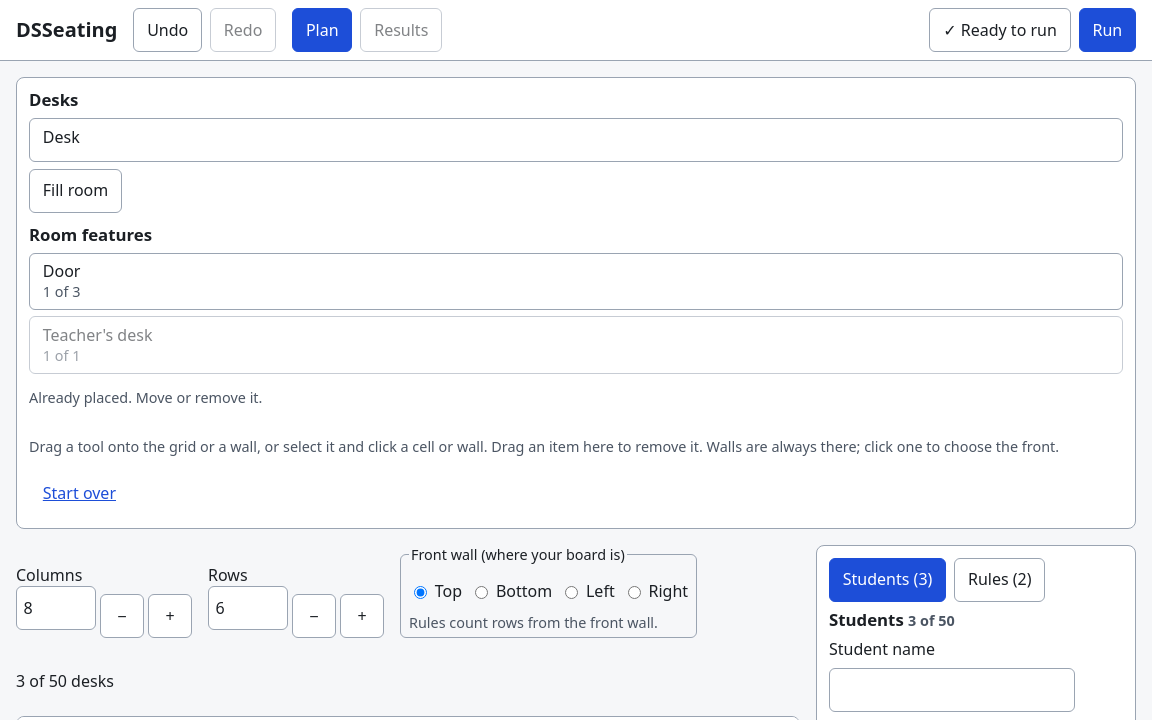
Test case: Run › shows the FR-37 banner and the reason line of a selected rule
Step 1. Click the button "Run" → (1107, 30), box [1079, 8, 1136, 52]
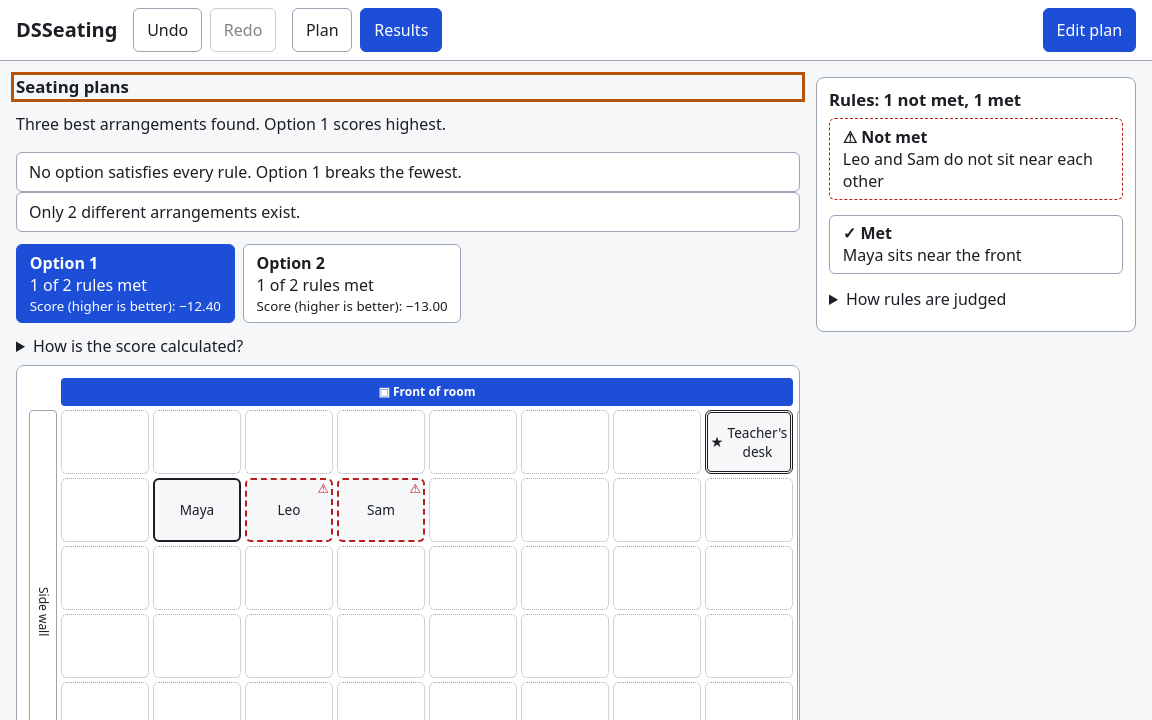
Now the heading "Seating plans" is shown, box [16, 75, 129, 98]
Now the text "No option satisfies every rule. Option 1 breaks the fewest." is shown, box [16, 152, 800, 192]
Now the text "Only 2 different arrangements exist." is shown, box [16, 192, 800, 232]
Step 2. Click the button "⚠ Not met Leo and Sam do not sit near each other" → (976, 159), box [830, 119, 1122, 199]
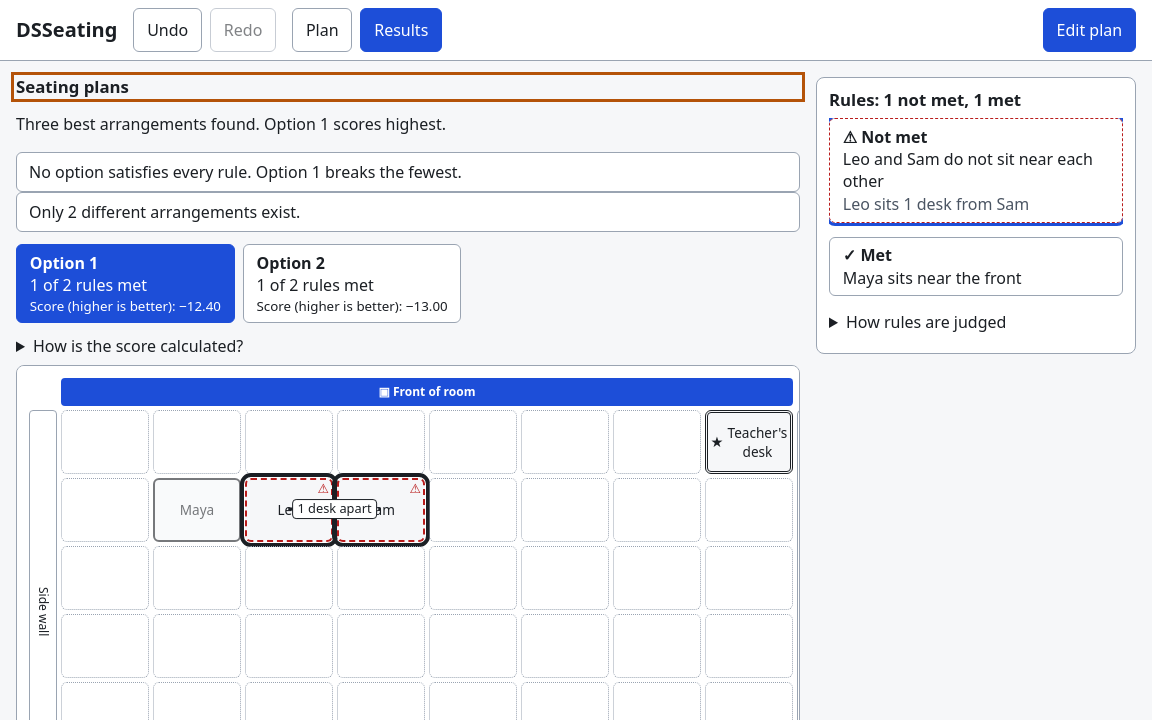
Now the text "Leo sits 1 desk from Sam" is shown, box [843, 193, 1029, 215]
Step 3. Click the tab "Option 2 1 of 2 rules met Score (higher is better): −13.00" → (352, 283), box [243, 244, 461, 322]
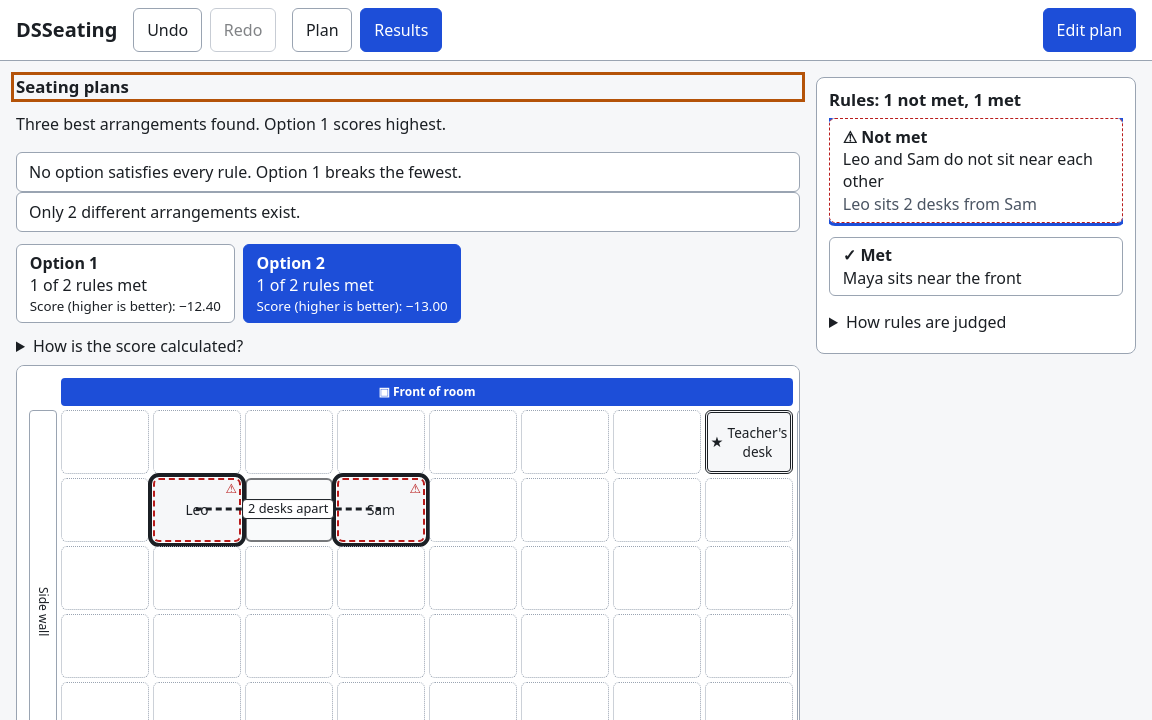
Now the text "Leo sits 2 desks from Sam" is shown, box [843, 193, 1037, 215]
Step 4. Click the button "✓ Met Maya sits near the front" → (976, 267), box [830, 238, 1122, 296]
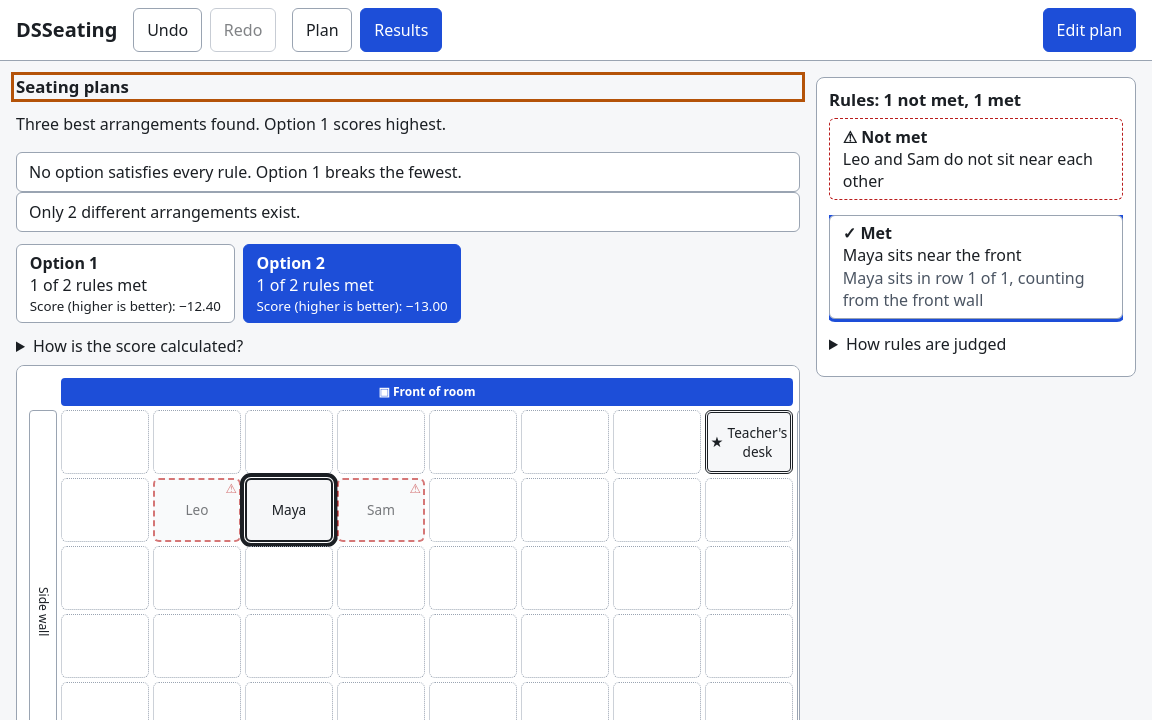
Now the text "Maya sits in row 1 of 1, counting from the front wall" is shown, box [843, 267, 1109, 312]
